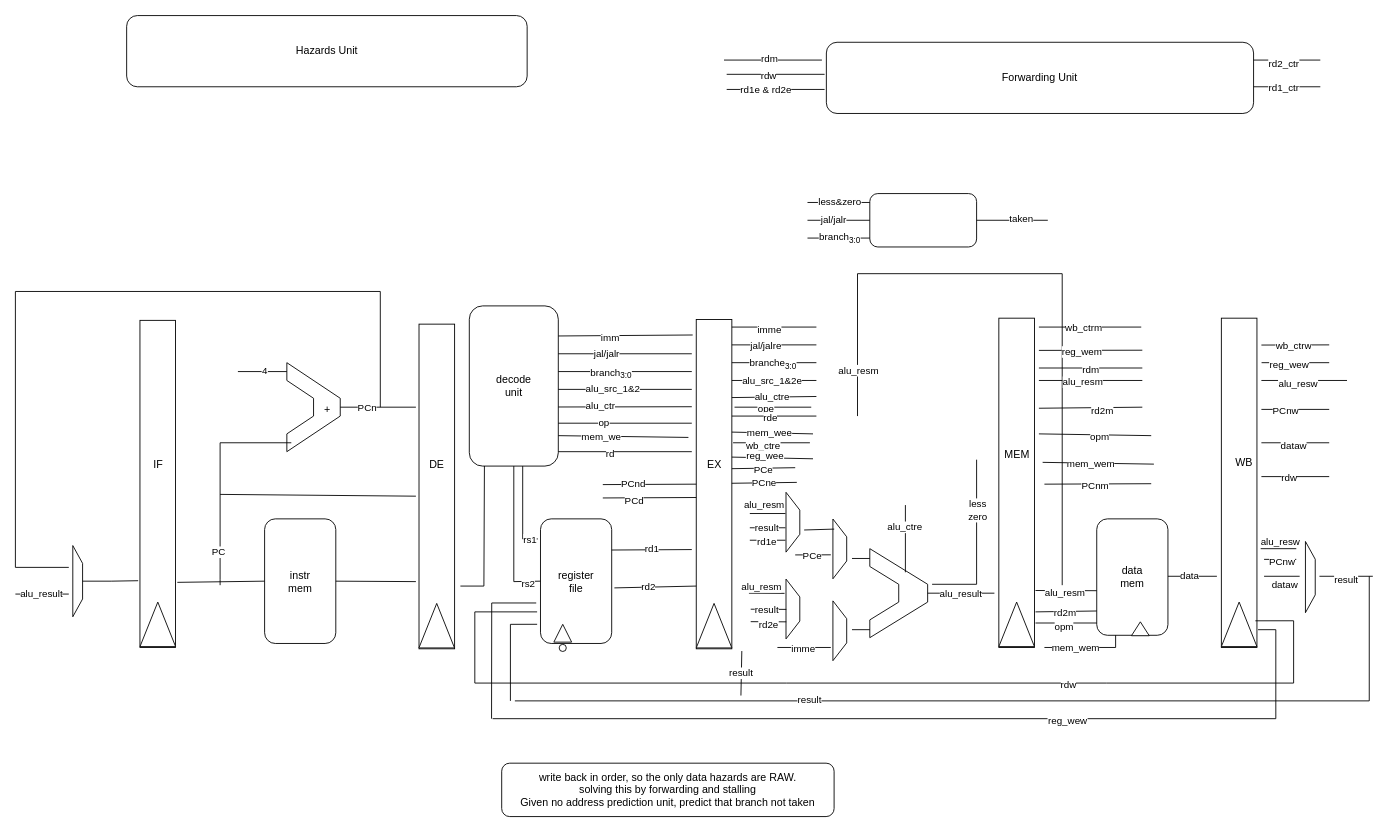
The diagram is 1390 pixels wide and 832 high, and some of its shapes have lost their labels. Each missing label, with the box of its shape:
branch unit: (869, 193, 977, 247)
CLR: (695, 319, 732, 649)
CLR EN: (418, 323, 455, 649)
EN: (139, 320, 176, 647)
